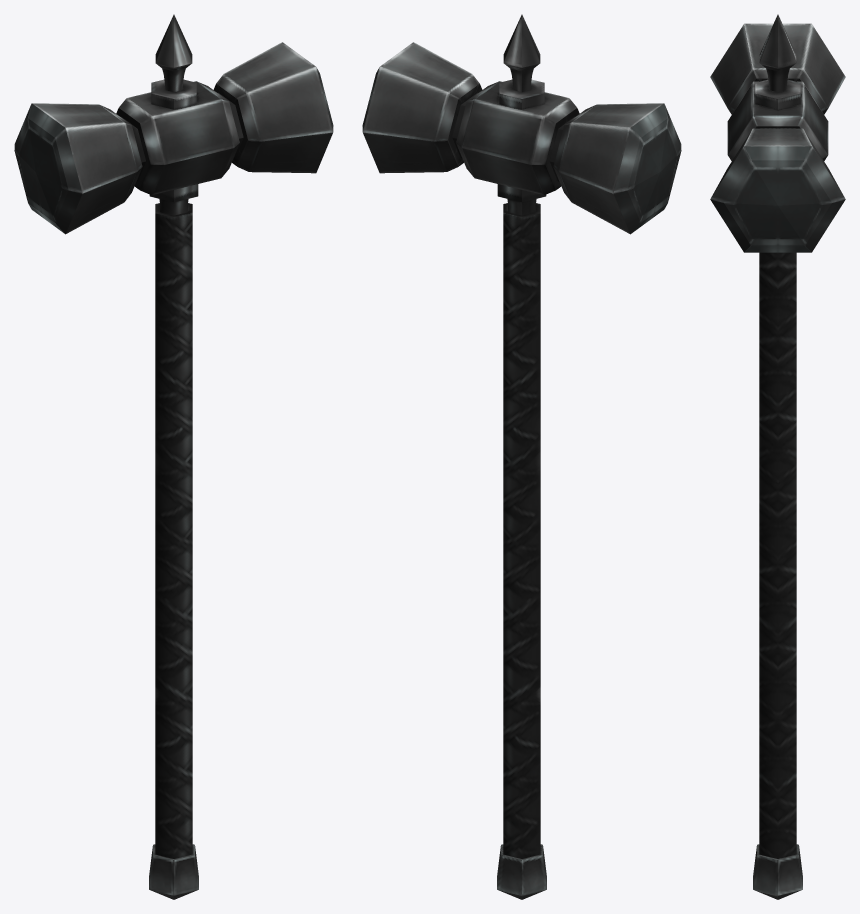
The model's file is 94_weapon.FBX.
3 views of the same model, side by side, from view 1: azimuth 30°, elevation 25°; view 2: azimuth 150°, elevation 25°; view 3: azimuth 270°, elevation 25° (orthographic).
Visible parts, largest first — view 1: 94_weapon; view 2: 94_weapon; view 3: 94_weapon.
Part boxes in pixels (x1,y1,x2,y2): 94_weapon: (14, 14, 333, 899); 94_weapon: (362, 14, 681, 899); 94_weapon: (710, 14, 845, 899).
Bounding box in the file's own units: 1024 × 3132 × 435.
